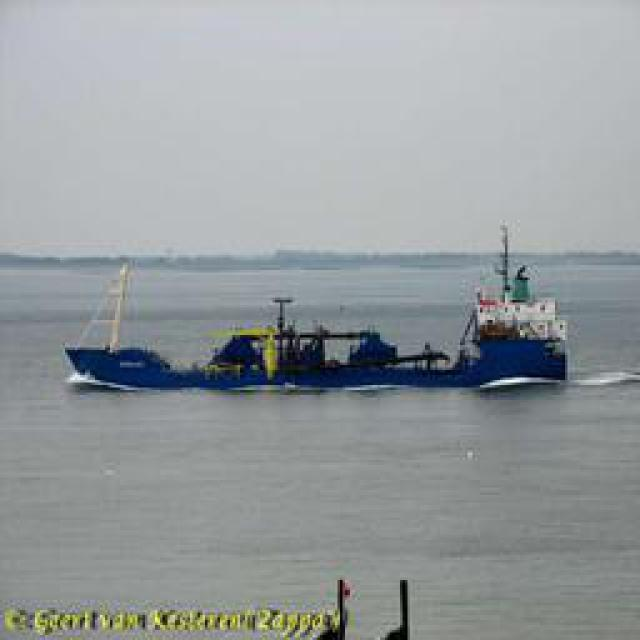Ship: (63, 277, 578, 395)
